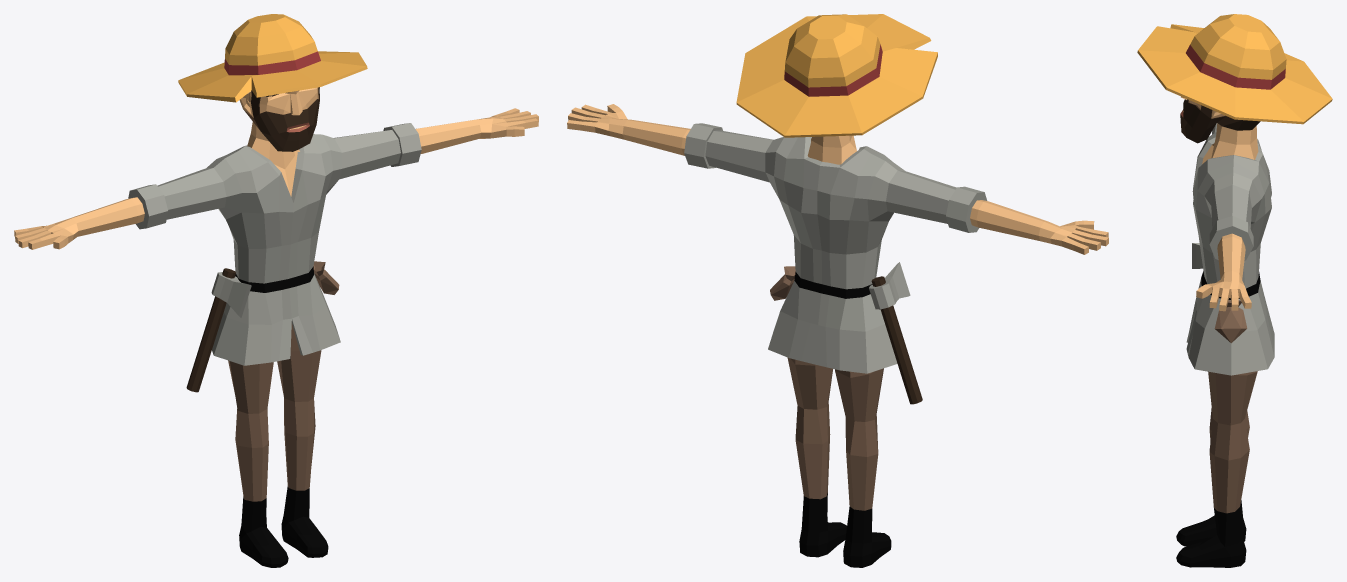
File: Char_wStrawHat.fbx
3 views of the same model, side by side, from view 1: azimuth 30°, elevation 25°; view 2: azimuth 150°, elevation 25°; view 3: azimuth 270°, elevation 25° (orthographic). The views are drawn at different scales.
Visible parts, largest first — view 1: Circle, Sphere; view 2: Circle, Sphere; view 3: Circle, Sphere.
Part boxes in pixels (box(x1,y1,x2,y2)): Circle: box(14, 73, 538, 567); Sphere: box(178, 14, 367, 102); Circle: box(567, 52, 1108, 567); Sphere: box(736, 14, 937, 137); Circle: box(1176, 96, 1274, 567); Sphere: box(1137, 14, 1332, 124).
Size of the model in its own units: 228 by 220 by 73.08.
